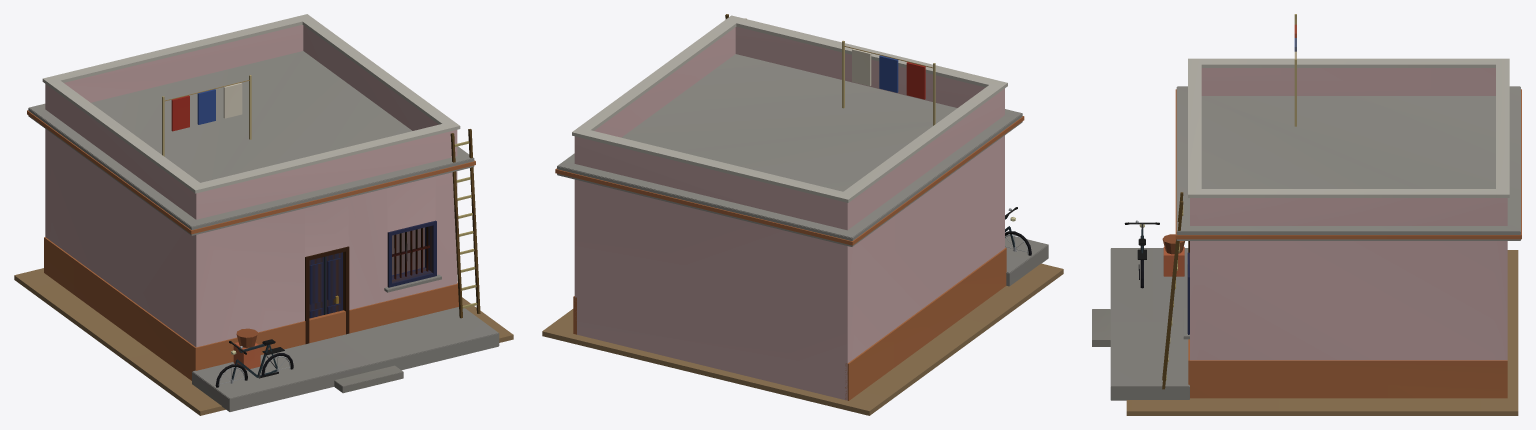
The model's file is house_kit_c.glb.
3 views of the same model, side by side, from view 1: azimuth 30°, elevation 25°; view 2: azimuth 150°, elevation 25°; view 3: azimuth 270°, elevation 25° (orthographic). The views are drawn at different scales.
Visible parts, largest first — view 1: hb_main, hb_props, hb_metal, hb_brick; view 2: hb_main; view 3: hb_main, hb_props, hb_brick.
Part boxes in pixels (x1=…): hb_main: x1=14, y1=14, x2=513, y2=415; hb_props: x1=162, y1=75, x2=480, y2=343; hb_metal: x1=392, y1=227, x2=429, y2=279; hb_brick: x1=233, y1=342, x2=260, y2=369; hb_main: x1=542, y1=15, x2=1063, y2=415; hb_main: x1=1092, y1=19, x2=1521, y2=415; hb_props: x1=1162, y1=14, x2=1296, y2=389; hb_brick: x1=1163, y1=246, x2=1184, y2=276.
Size of the model in its own units: 7.2 by 5.48 by 8.12.
